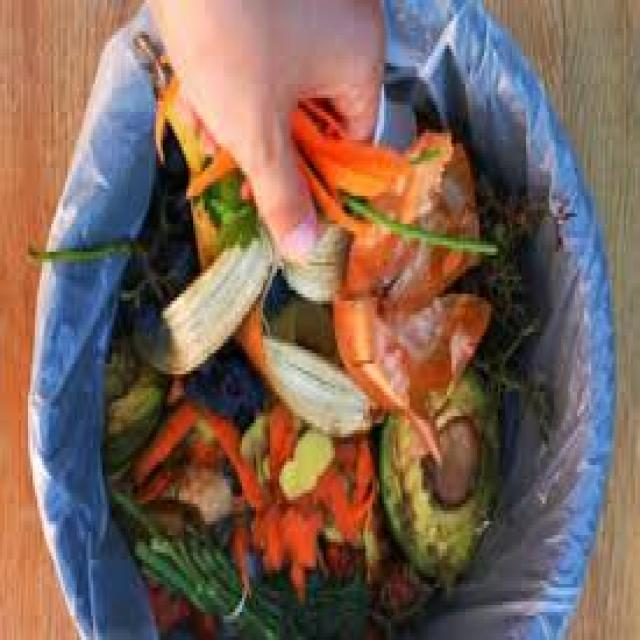Organik: (68, 108, 563, 640)
